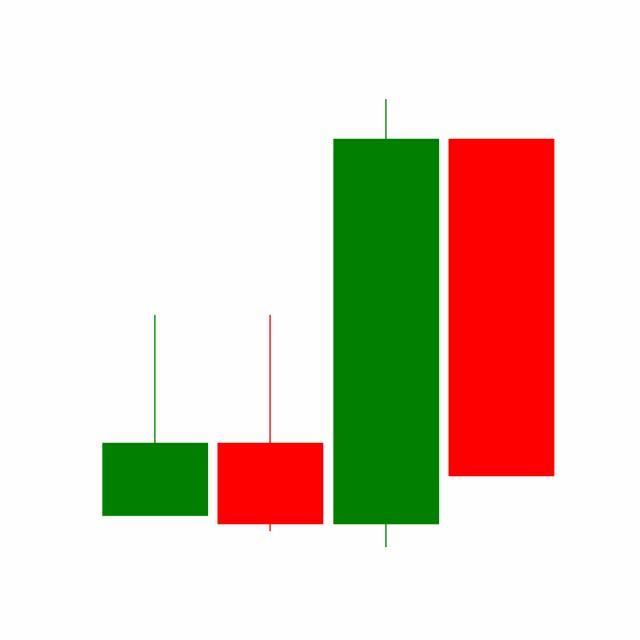Marubozu: (444, 136, 560, 480)
